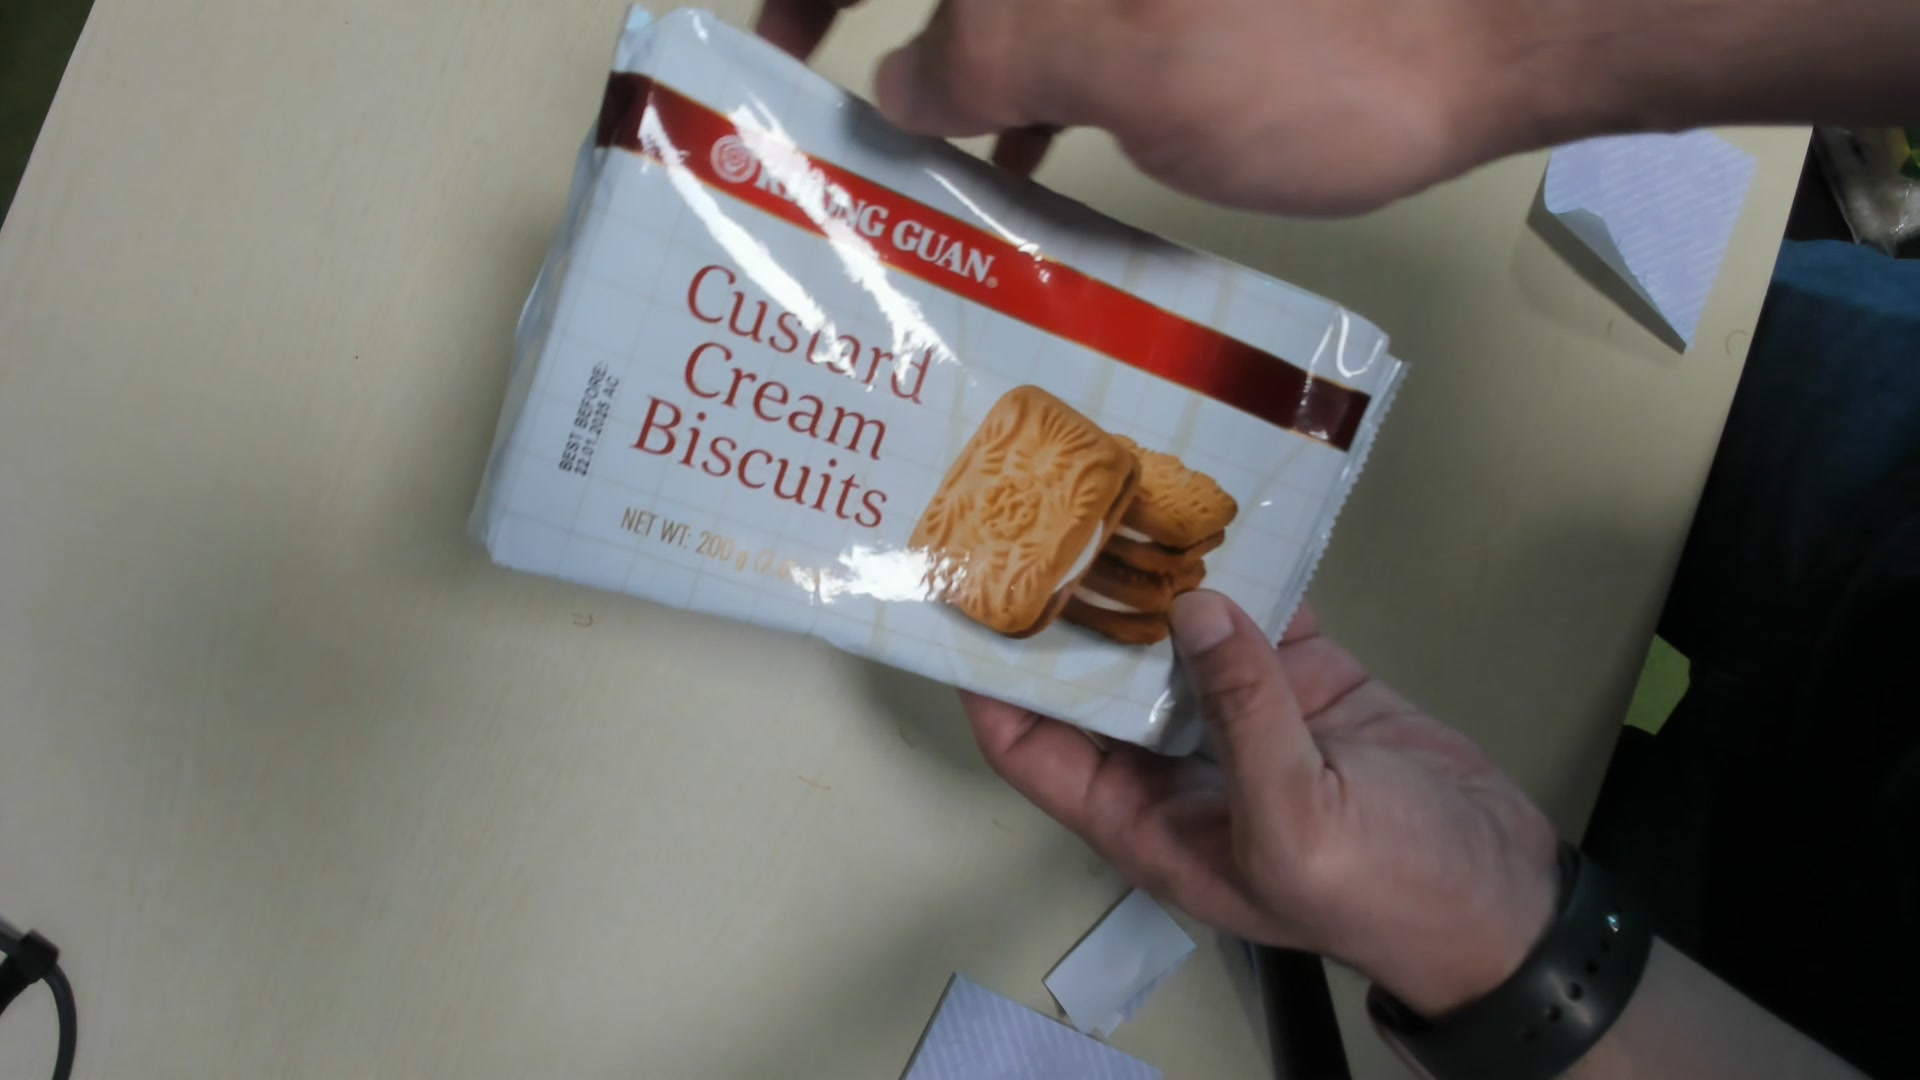BiscuitsCrackersCookies_200-299g_Halal_NonHealthy: (460, 12, 1400, 785)
